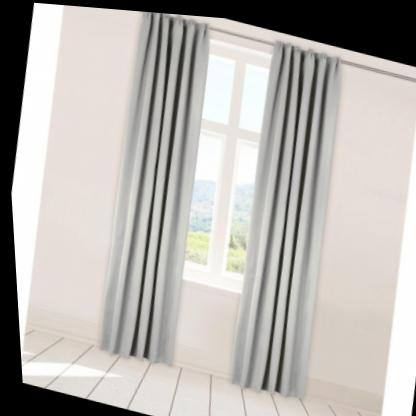Curtains: (224, 35, 340, 396), (94, 9, 210, 361)
